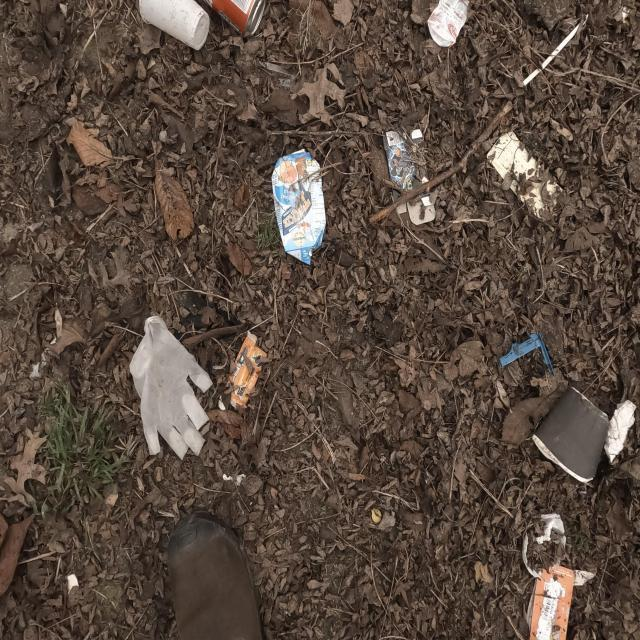Cup: (536, 381, 606, 484), (135, 0, 212, 52)
